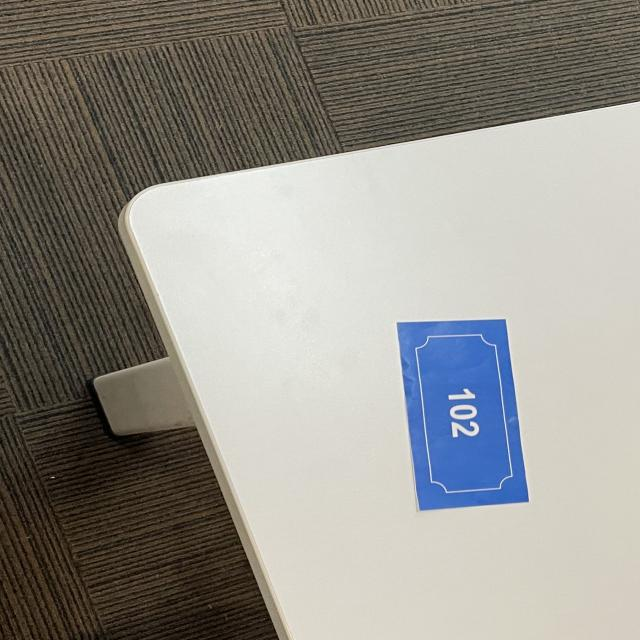Card: (366, 287, 566, 522)
